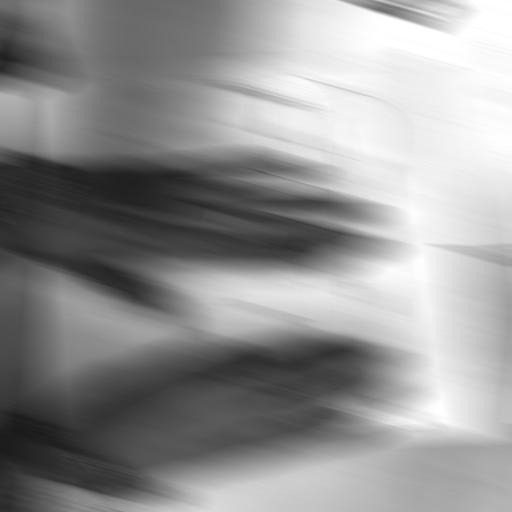bus: (41, 25, 436, 482)
top_left: (465, 427, 501, 439)
top_right: (413, 54, 450, 66)
